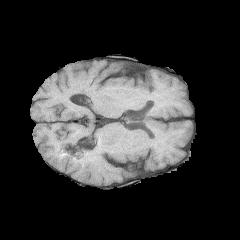glioma: (70, 146, 99, 174)
